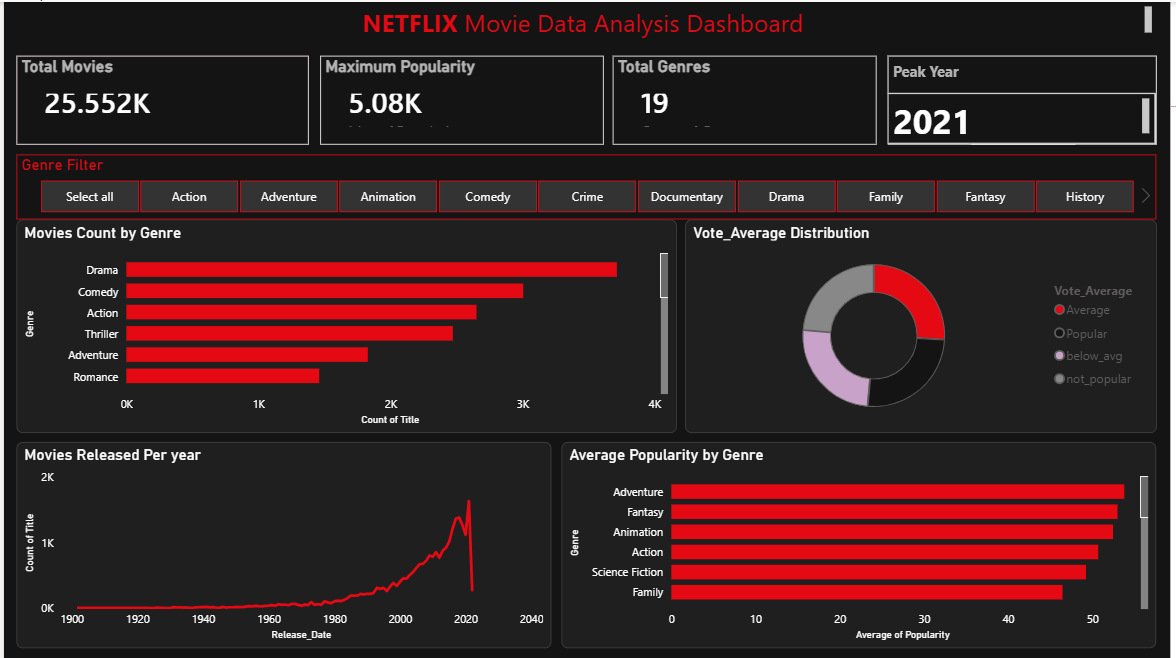

Layout of this report page (visuals, bound fields, positions):
{"tool":"powerbi","page":{"name":"Page 1","canvas":[1280,720],"ordinal":0},"visuals":[{"type":"shape","box":[13.7,59,321.1,97.4],"z":0},{"type":"clusteredBarChart","title":"Movies Count by Genre","fields":{"Category":["netflix_cleaned.Genre"],"Y":["CountNonNull(netflix_cleaned.Title)"]},"box":[13.7,238.8,724.5,234.6],"z":1000},{"type":"donutChart","title":" Vote_Average Distribution","fields":{"Category":["netflix_cleaned.Vote_Average"],"Y":["CountNonNull(netflix_cleaned.Title)"]},"box":[747.9,238.8,517.3,234.6],"z":2000},{"type":"lineChart","title":"Movies Released Per year","fields":{"Category":["netflix_cleaned.Release_Date"],"Y":["CountNonNull(netflix_cleaned.Title)"]},"box":[13.7,483,587.3,226.4],"z":3000},{"type":"clusteredBarChart","title":"Average Popularity by Genre","fields":{"Y":["Avg(netflix_cleaned.Popularity)"],"Category":["netflix_cleaned.Genre"]},"box":[612,483,653.2,226.4],"z":4000},{"type":"cardVisual","title":"Total Movies","fields":{"Data":["CountNonNull(netflix_cleaned.Title)"]},"box":[13.7,59,321.1,97.4],"z":5000},{"type":"cardVisual","title":"Maximum Popularity","fields":{"Data":["Max(netflix_cleaned.Popularity)"]},"box":[347.2,59,311.5,97.4],"z":6000},{"type":"cardVisual","title":"Total Genres","fields":{"Data":["Count(netflix_cleaned.Genre)"]},"box":[668.3,59,289.5,97.4],"z":7000},{"type":"cardVisual","box":[970.2,59,295,97.4],"z":8000},{"type":"slicer","title":"Genre Filter","fields":{"Values":["netflix_cleaned.Genre"]},"box":[13.7,167.4,1251.5,71.4],"z":9000},{"type":"textbox","box":[13.7,0,1251.5,49.4],"z":10000},{"type":"textbox","box":[983.5,91.2,269.4,52.7],"z":11000},{"type":"textbox","box":[970.7,58.4,295.1,41.3],"z":12000},{"type":"textbox","box":[970.7,99.8,293.6,55.6],"z":13000}]}

Visuals, with their boxes in screenshot pixels (x1, y1, x2, y2), scaled from the page's 1280x720 canvas onto the 1176x658 screenshot:
shape: bbox=[13, 54, 308, 143]
"Movies Count by Genre" clusteredBarChart: bbox=[13, 218, 678, 433]
" Vote_Average Distribution" donutChart: bbox=[687, 218, 1162, 433]
"Movies Released Per year" lineChart: bbox=[13, 441, 552, 648]
"Average Popularity by Genre" clusteredBarChart: bbox=[562, 441, 1162, 648]
"Total Movies" cardVisual: bbox=[13, 54, 308, 143]
"Maximum Popularity" cardVisual: bbox=[319, 54, 605, 143]
"Total Genres" cardVisual: bbox=[614, 54, 880, 143]
cardVisual: bbox=[891, 54, 1162, 143]
"Genre Filter" slicer: bbox=[13, 153, 1162, 218]
textbox: bbox=[13, 0, 1162, 45]
textbox: bbox=[904, 83, 1151, 132]
textbox: bbox=[892, 53, 1163, 91]
textbox: bbox=[892, 91, 1162, 142]
